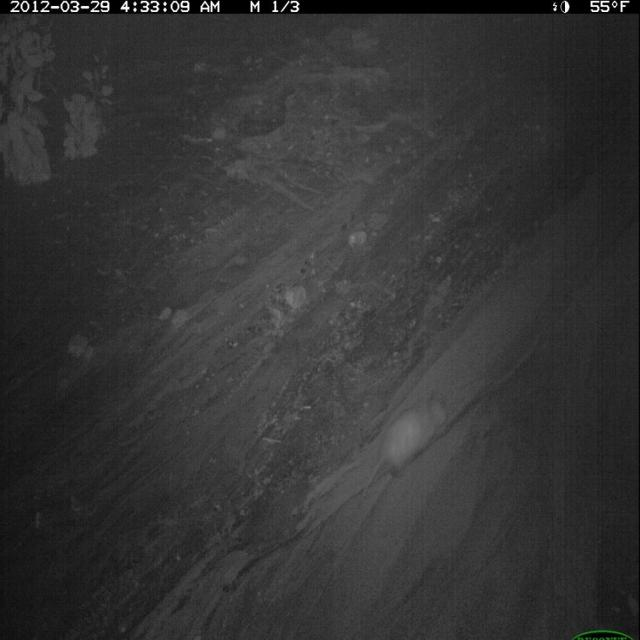opossum: (357, 386, 453, 504)
